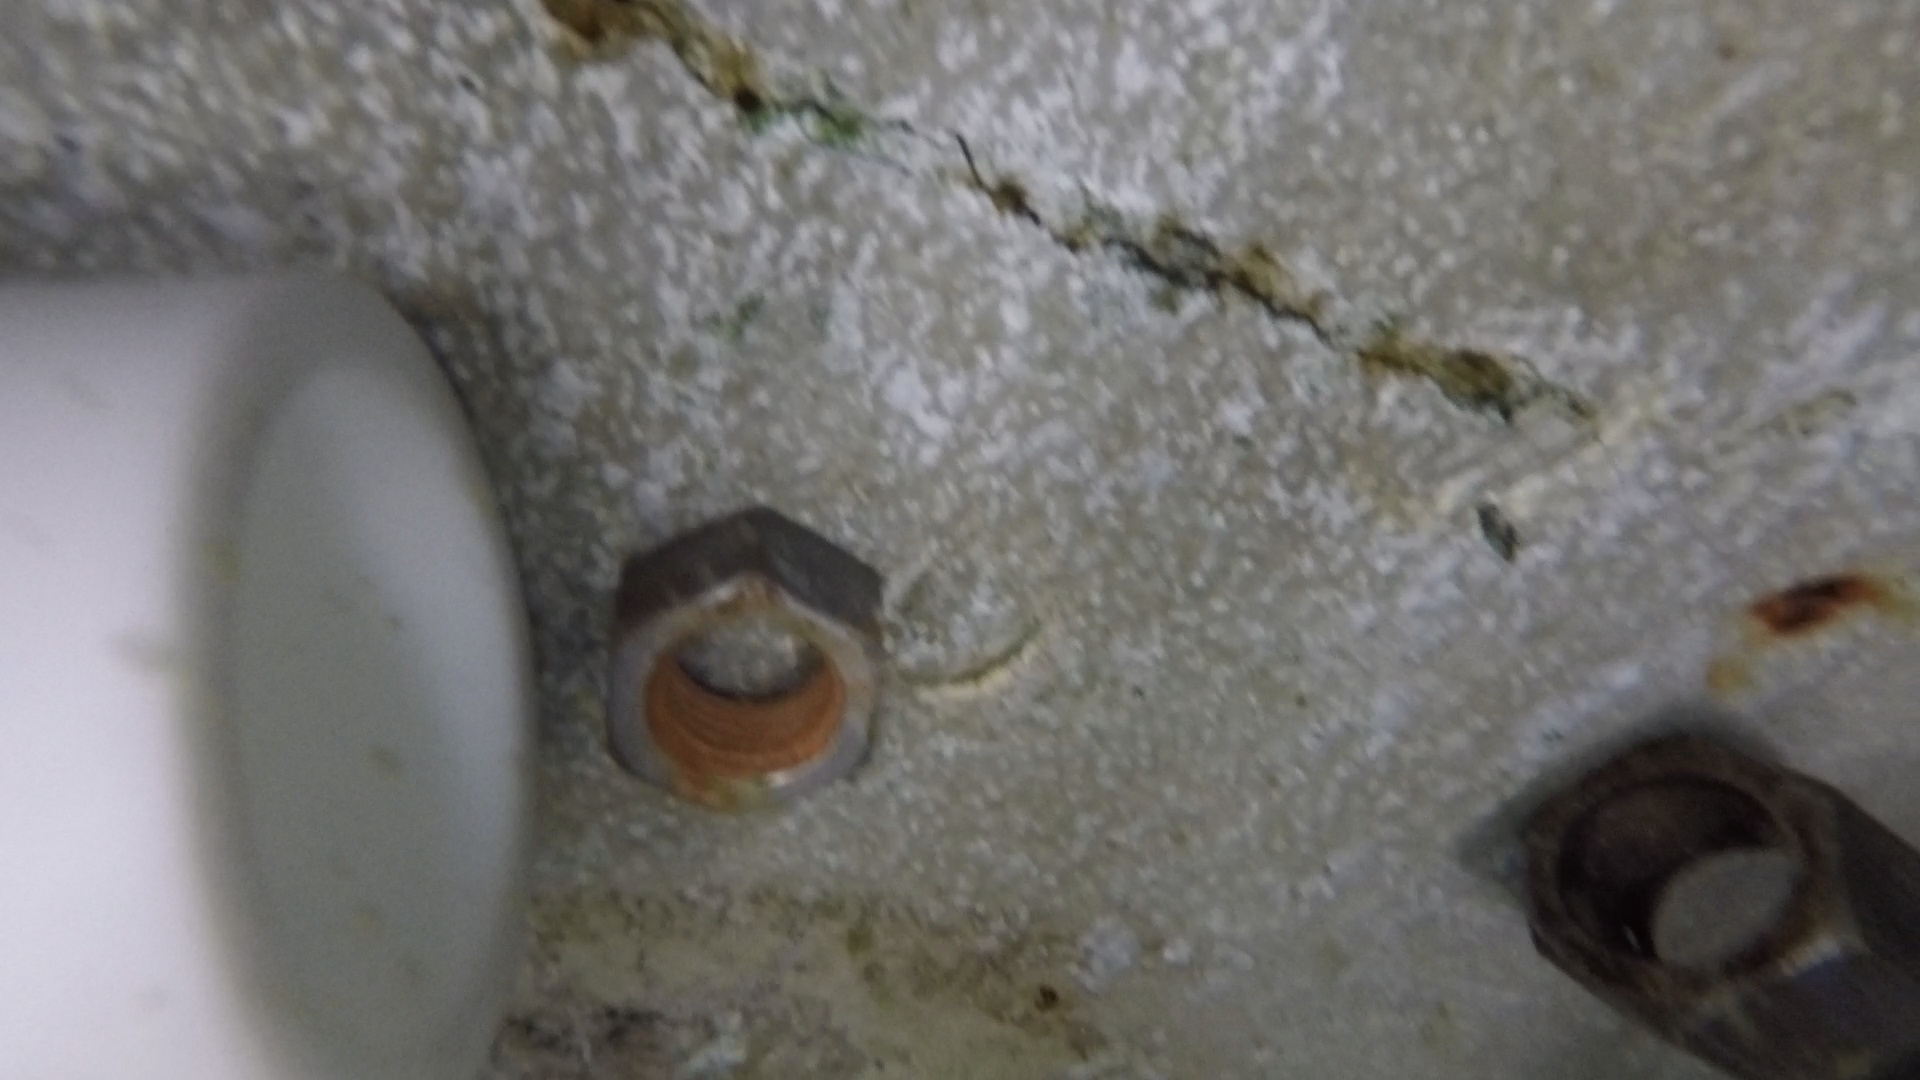nut: (1522, 731, 1920, 1076), (603, 506, 884, 819)
pipe: (1, 268, 545, 1079)
